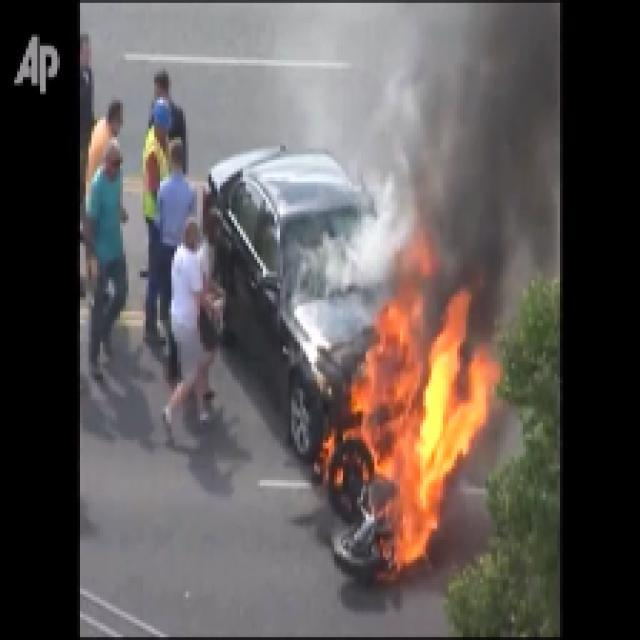Fire: (294, 242, 523, 598)
Smoke: (374, 0, 557, 317)
